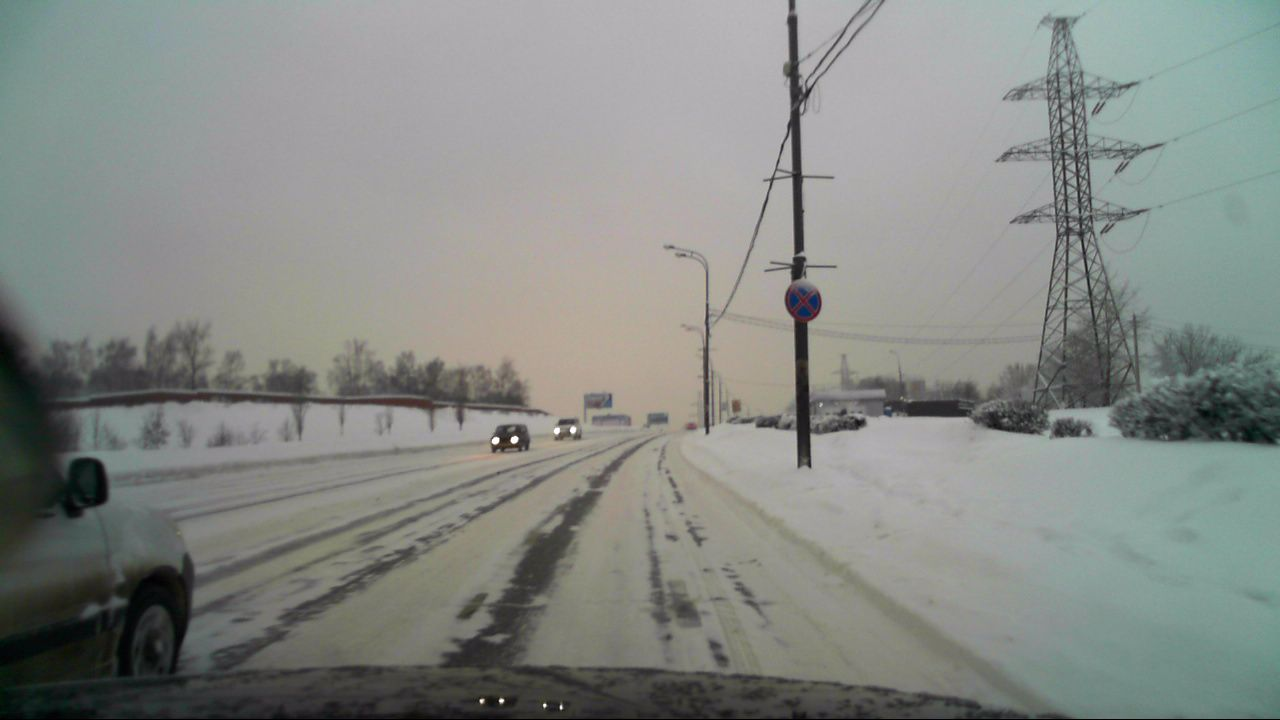No Parking: (785, 278, 825, 321)
